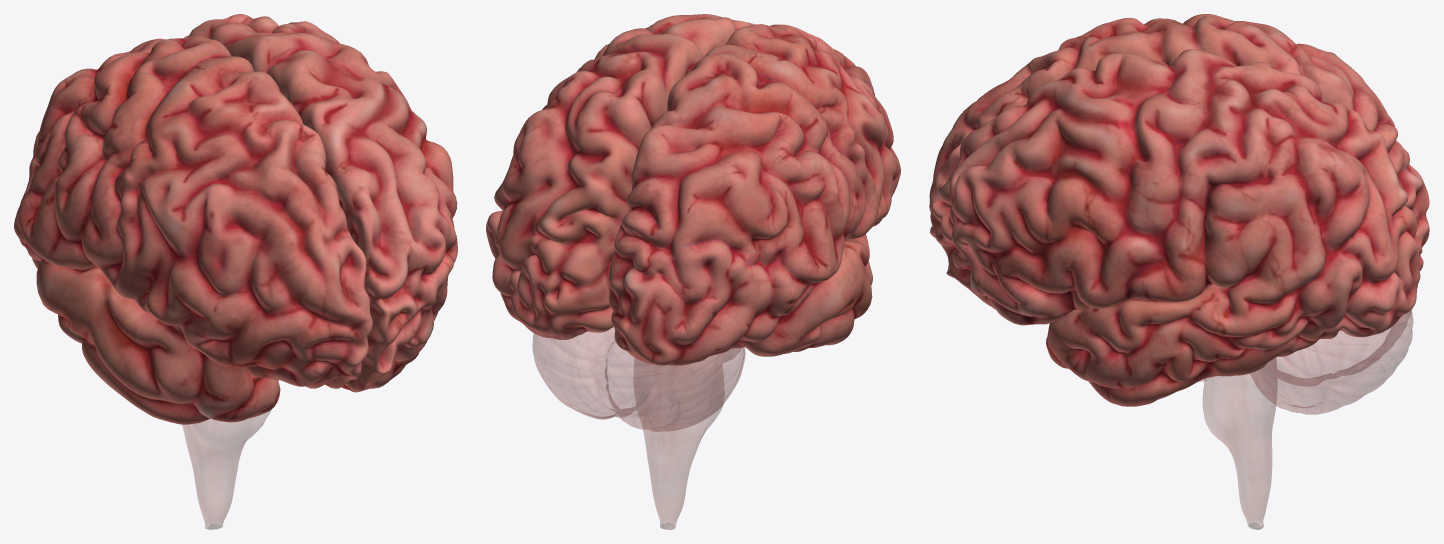
File: brain_realistic_textured.glb
The picture shows the model from 3 angles, left to right: view 1: azimuth 30°, elevation 25°; view 2: azimuth 150°, elevation 25°; view 3: azimuth 270°, elevation 25°; orthographic projection. The views are drawn at different scales.
Visible parts, largest first — view 1: hemisferio_der, hemisferio_izq, tronco_encefalico; view 2: hemisferio_der, hemisferio_izq, cerebelo, tronco_encefalico; view 3: hemisferio_izq, hemisferio_der, cerebelo, tronco_encefalico.
Boxes of the visible parts, <box> form: hemisferio_der: <box>14,35,372,424</box>; hemisferio_izq: <box>183,14,457,392</box>; tronco_encefalico: <box>182,410,270,529</box>; hemisferio_der: <box>608,24,900,365</box>; hemisferio_izq: <box>486,14,754,339</box>; cerebelo: <box>532,327,745,431</box>; tronco_encefalico: <box>633,348,741,529</box>; hemisferio_izq: <box>930,49,1423,406</box>; hemisferio_der: <box>929,14,1429,253</box>; cerebelo: <box>1250,309,1412,414</box>; tronco_encefalico: <box>1198,358,1277,529</box>.
Bounding box in the file's own units: 13.15 × 18.27 × 17.04.
Materials: 6 (6 with a texture image).
